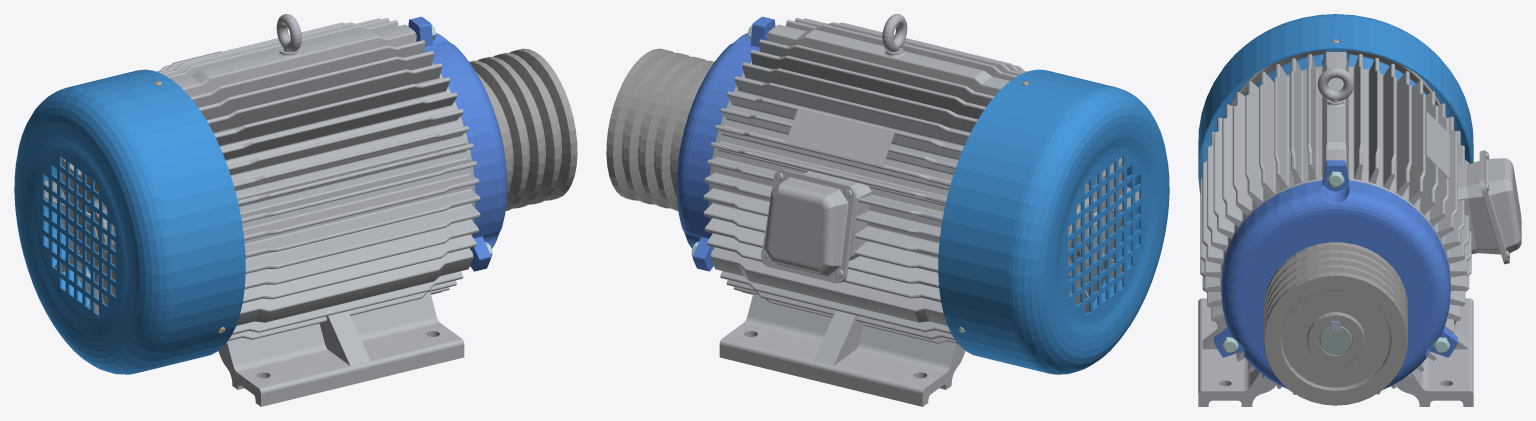
The model's file is ac-induction.glb.
The picture shows the model from 3 angles, left to right: view 1: azimuth 30°, elevation 25°; view 2: azimuth 150°, elevation 25°; view 3: azimuth 270°, elevation 25°; orthographic projection. The views are drawn at different scales.
Parts seen in each view (by area): view 1: 机座, 风扇罩, V形皮带轮, 前端盖, 风扇; view 2: 机座, 风扇罩, V形皮带轮, 前端盖, 风扇; view 3: 机座, 前端盖, V形皮带轮, 风扇罩, 风扇, 后端盖, 转子.
Part boxes in pixels (x1,y1,x2,y2): 机座: [156, 14, 480, 406]; 风扇罩: [14, 69, 245, 374]; V形皮带轮: [469, 48, 577, 211]; 前端盖: [408, 16, 507, 271]; 风扇: [44, 157, 115, 314]; 机座: [703, 14, 1027, 406]; 风扇罩: [938, 69, 1169, 374]; V形皮带轮: [606, 48, 714, 210]; 前端盖: [676, 16, 775, 271]; 风扇: [1068, 157, 1139, 314]; 机座: [1198, 52, 1521, 406]; 前端盖: [1214, 160, 1457, 389]; V形皮带轮: [1264, 242, 1407, 405]; 风扇罩: [1198, 14, 1473, 192]; 风扇: [1225, 50, 1446, 118]; 后端盖: [1244, 49, 1426, 95]; 转子: [1319, 326, 1352, 354].
Bounding box in the file's own units: 0.573 × 0.3706 × 0.3712.
